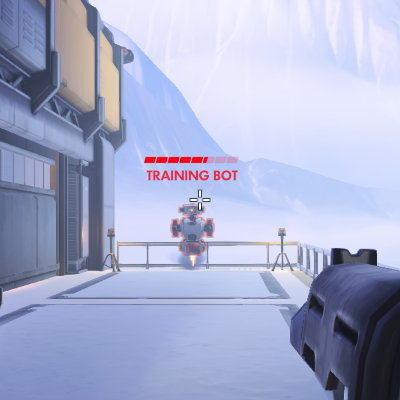hpbar: (144, 156, 238, 164)
